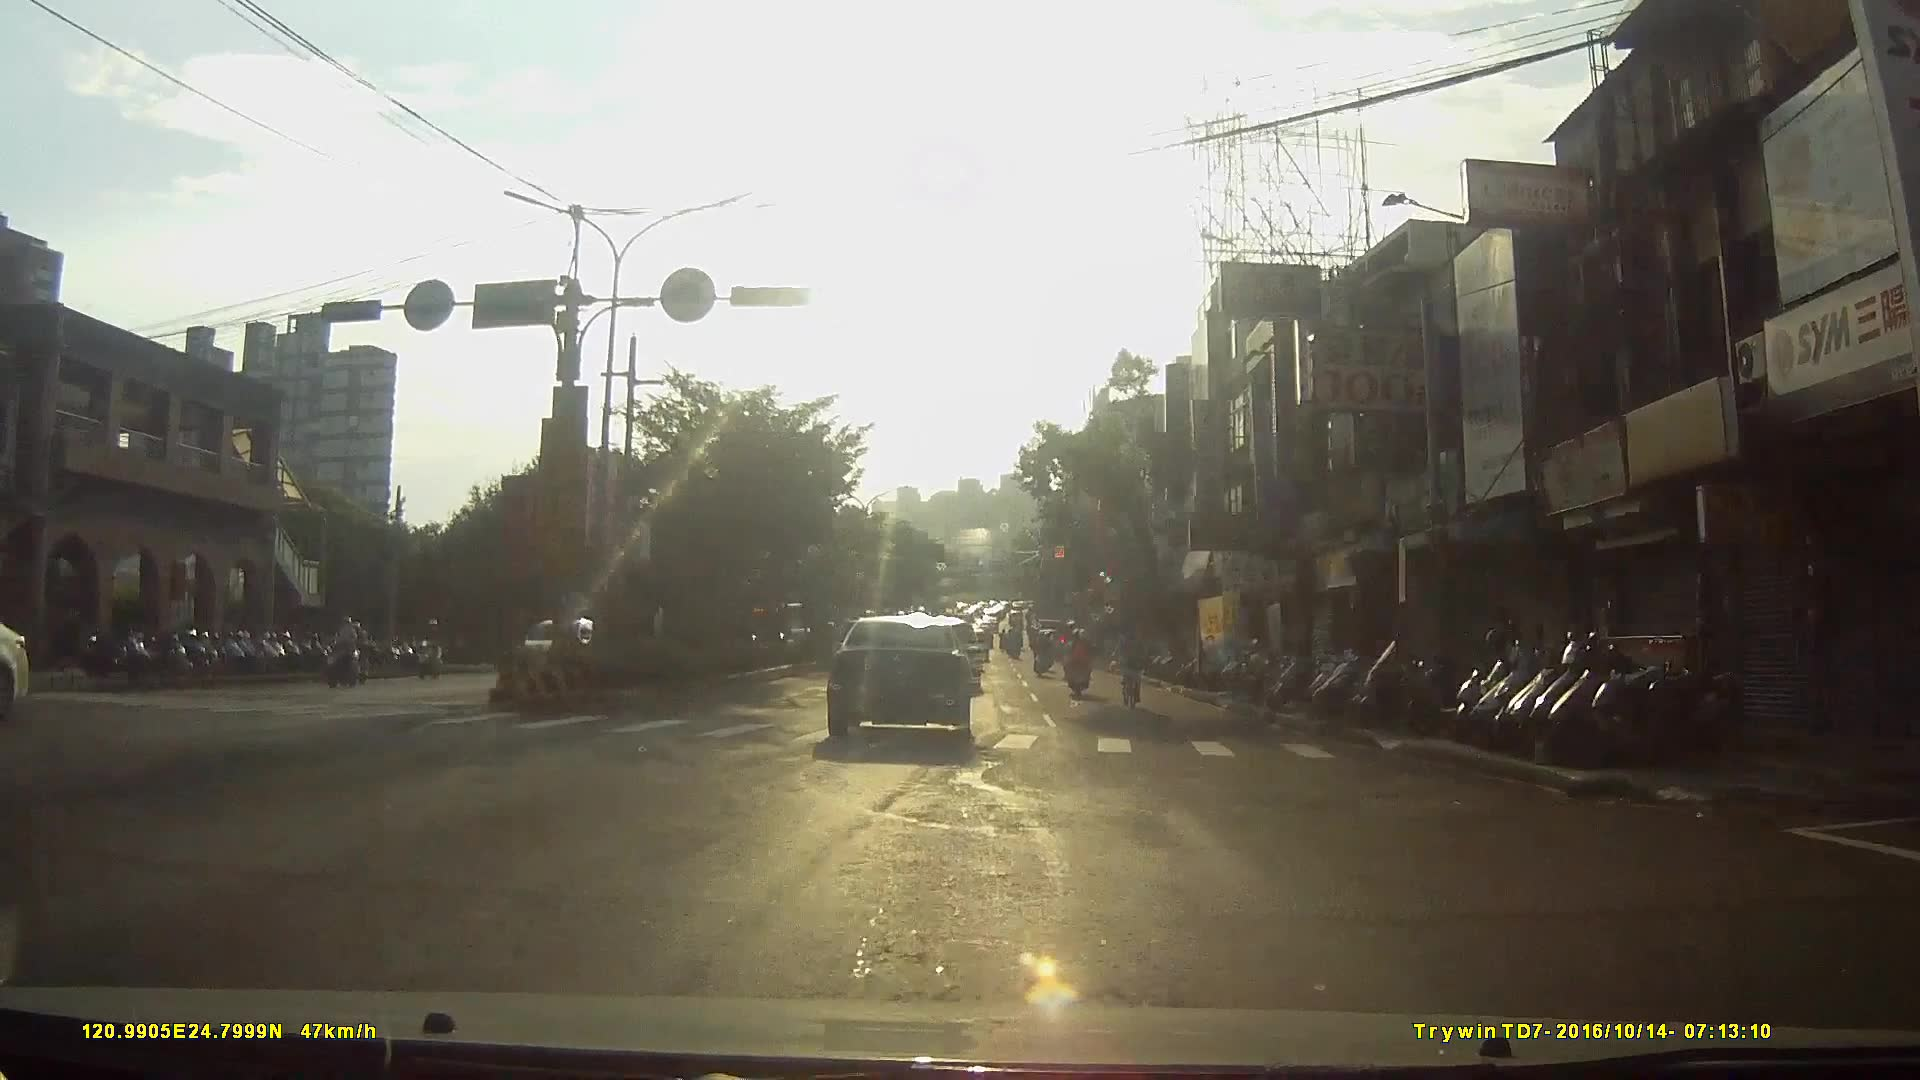rider: (1115, 624, 1147, 716), (326, 615, 363, 688), (1066, 630, 1093, 701), (420, 616, 448, 682), (1030, 626, 1055, 680)
vehicle: (831, 609, 989, 752), (1, 606, 45, 727)
